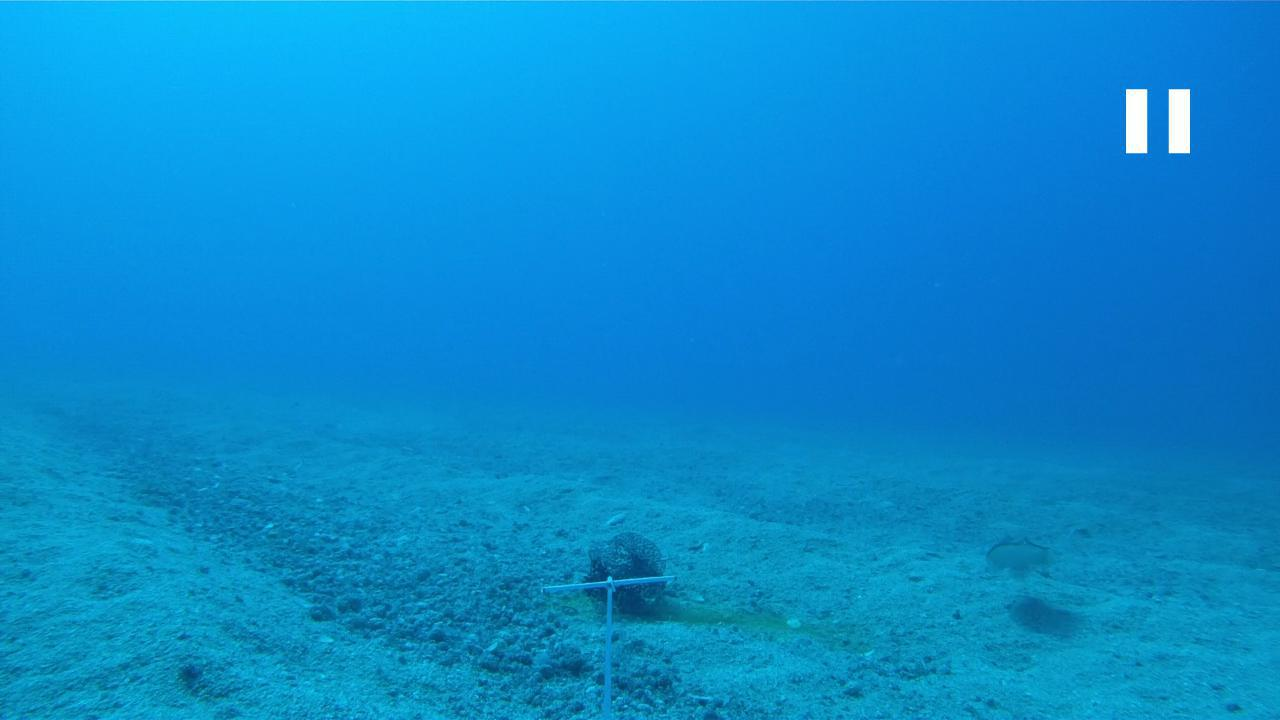bothus: (983, 535, 1054, 582)
